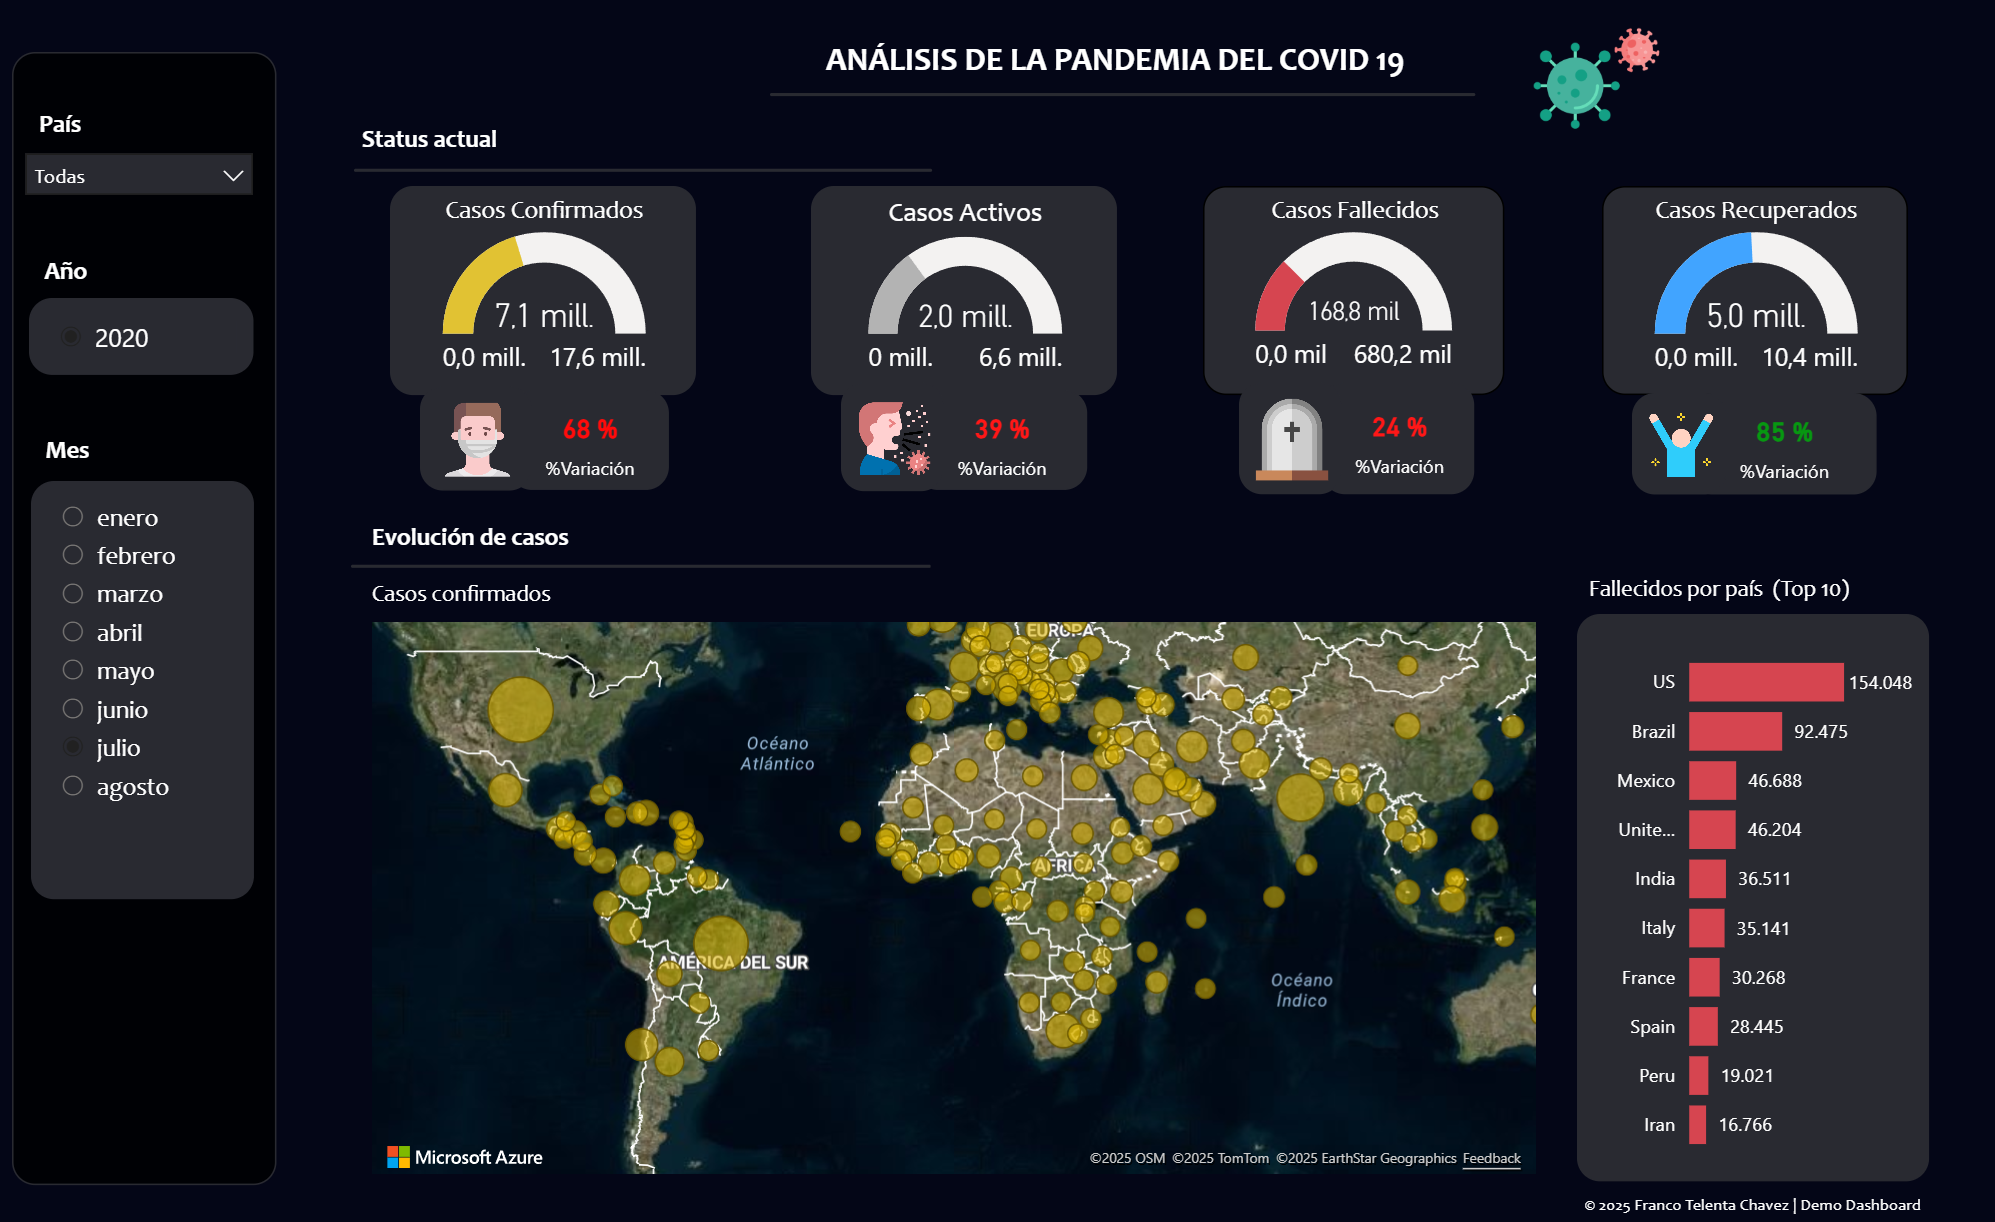

The page's visual inventory and layout, read from the dashboard file:
{"tool":"powerbi","page":{"name":"PRINCIPAL","canvas":[1380,800],"ordinal":0},"visuals":[{"type":"textbox","box":[18.8,36.9,171.6,737.1],"z":0},{"type":"textbox","box":[470.8,24.2,530.8,51.4],"z":1000},{"type":"gauge","title":"Casos Confirmados","fields":{"MaxValue":["COVID19 - ACTUAL.CONFIRMADOS_U_S"],"Y":["COVID19 - ACTUAL.DIF_Confirmados_Mensual"]},"box":[265,124.2,198.7,136],"z":2000},{"type":"gauge","title":"Casos Fallecidos","fields":{"MaxValue":["COVID19 - ACTUAL.MUERTOS_U_S"],"Y":["COVID19 - ACTUAL.DIF_Muertos_Mensual"]},"box":[793.5,124.1,196,136],"z":3000},{"type":"gauge","title":"Casos Recuperados","fields":{"MaxValue":["COVID19 - ACTUAL.RECUPERADOS_U_S"],"Y":["COVID19 - ACTUAL.DIF_Recuperados_Mensual"]},"box":[1053,124.2,198.7,136],"z":4000},{"type":"azureMap","title":"Casos confirmados","fields":{"Category":["LOCATIONS.Country/Region"],"Size":["COVID19 - ACTUAL.CONFIRMADOS_U_S"]},"box":[247.6,379.7,767.3,392],"z":5000},{"type":"clusteredBarChart","fields":{"Category":["LOCATIONS.Country/Region"],"Y":["COVID19 - ACTUAL.MUERTOS_U_S"]},"box":[1037,402.7,229.2,369],"z":6000},{"type":"slicer","fields":{"Values":["MiCalendarioAuto.Date.Variación.Jerarquía de fechas.Mes"]},"box":[31.1,315.9,145,272.1],"z":7000},{"type":"slicer","fields":{"Values":["MiCalendarioAuto.Date.Variación.Jerarquía de fechas.Año"]},"box":[30.1,196.9,145.6,49.9],"z":8000},{"type":"textbox","box":[18.6,164.6,69.8,42.9],"z":9000},{"type":"textbox","box":[20,281.2,69.3,42.7],"z":10000},{"type":"slicer","fields":{"Values":["LOCATIONS.Country/Region"]},"box":[17.4,93,168.2,61.5],"z":11000},{"type":"textbox","box":[14.5,68.9,71.7,44.4],"z":12000},{"type":"card","fields":{"Values":["COVID19 - ACTUAL.%Var_Confirmados_Mensual"]},"box":[342.3,256.8,103.5,65.5],"z":13000},{"type":"card","fields":{"Values":["COVID19 - ACTUAL.%Var_Muertos_Mensual"]},"box":[870.9,251.5,99.1,73.5],"z":14000},{"type":"card","fields":{"Values":["COVID19 - ACTUAL.%Var_Recuperados_Mensual"]},"box":[1109.5,259.1,122.4,66.3],"z":15000},{"type":"gauge","title":"Casos Activos","fields":{"MaxValue":["COVID19 - ACTUAL.ACTIVOS_U_S"],"Y":["COVID19 - ACTUAL.DIF_Activos_Mensual"]},"box":[538.3,124.2,198.7,136],"z":16000},{"type":"card","fields":{"Values":["COVID19 - ACTUAL.%Var_Activos_Mensual"]},"box":[605.9,256.8,111.5,65.5],"z":17000},{"type":"textbox","box":[241,78.5,145.3,45.3],"z":18000},{"type":"shape","box":[241,106.5,376,14.7],"z":19000},{"type":"textbox","box":[247.7,337.6,198.7,45.3],"z":20000},{"type":"shape","box":[239.7,364.2,377.3,14.7],"z":21000},{"type":"image","box":[1003.6,26.1,66.2,66.2],"z":22000},{"type":"image","box":[1056.1,12.3,38.8,47.5],"z":23000},{"type":"shape","box":[511.6,58,458.8,13.8],"z":24000},{"type":"image","box":[816.8,251.5,67.3,72.6],"z":25000},{"type":"image","box":[558,251.5,67.3,70.8],"z":26000},{"type":"image","box":[283.9,254.2,73.5,68.1],"z":27000},{"type":"textbox","box":[1039.7,371.8,199.1,45.1],"z":28000},{"type":"image","box":[1072.3,259.1,61.5,66.3],"z":29000},{"type":"textbox","box":[1036.6,771.3,255,28.7],"z":30000}]}

Visuals, with their boxes on the page's 1380x800 design canvas (x1, y1, x2, y2). These are canvas units, not pixel positions in the 1995x1222 screenshot, which may show the page scaled, cropped or inside an application window:
textbox: detection(19, 37, 190, 774)
textbox: detection(471, 24, 1002, 76)
"Casos Confirmados" gauge: detection(265, 124, 464, 260)
"Casos Fallecidos" gauge: detection(794, 124, 990, 260)
"Casos Recuperados" gauge: detection(1053, 124, 1252, 260)
"Casos confirmados" azureMap: detection(248, 380, 1015, 772)
clusteredBarChart - LOCATIONS.Country/Region x COVID19 - ACTUAL.MUERTOS_U_S: detection(1037, 403, 1266, 772)
slicer - MiCalendarioAuto.Date.Variación.Jerarquía de fechas.Mes: detection(31, 316, 176, 588)
slicer - MiCalendarioAuto.Date.Variación.Jerarquía de fechas.Año: detection(30, 197, 176, 247)
textbox: detection(19, 165, 88, 208)
textbox: detection(20, 281, 89, 324)
slicer - LOCATIONS.Country/Region: detection(17, 93, 186, 154)
textbox: detection(14, 69, 86, 113)
card - COVID19 - ACTUAL.%Var_Confirmados_Mensual: detection(342, 257, 446, 322)
card - COVID19 - ACTUAL.%Var_Muertos_Mensual: detection(871, 252, 970, 325)
card - COVID19 - ACTUAL.%Var_Recuperados_Mensual: detection(1110, 259, 1232, 325)
"Casos Activos" gauge: detection(538, 124, 737, 260)
card - COVID19 - ACTUAL.%Var_Activos_Mensual: detection(606, 257, 717, 322)
textbox: detection(241, 78, 386, 124)
shape: detection(241, 106, 617, 121)
textbox: detection(248, 338, 446, 383)
shape: detection(240, 364, 617, 379)
image: detection(1004, 26, 1070, 92)
image: detection(1056, 12, 1095, 60)
shape: detection(512, 58, 970, 72)
image: detection(817, 252, 884, 324)
image: detection(558, 252, 625, 322)
image: detection(284, 254, 357, 322)
textbox: detection(1040, 372, 1239, 417)
image: detection(1072, 259, 1134, 325)
textbox: detection(1037, 771, 1292, 800)
